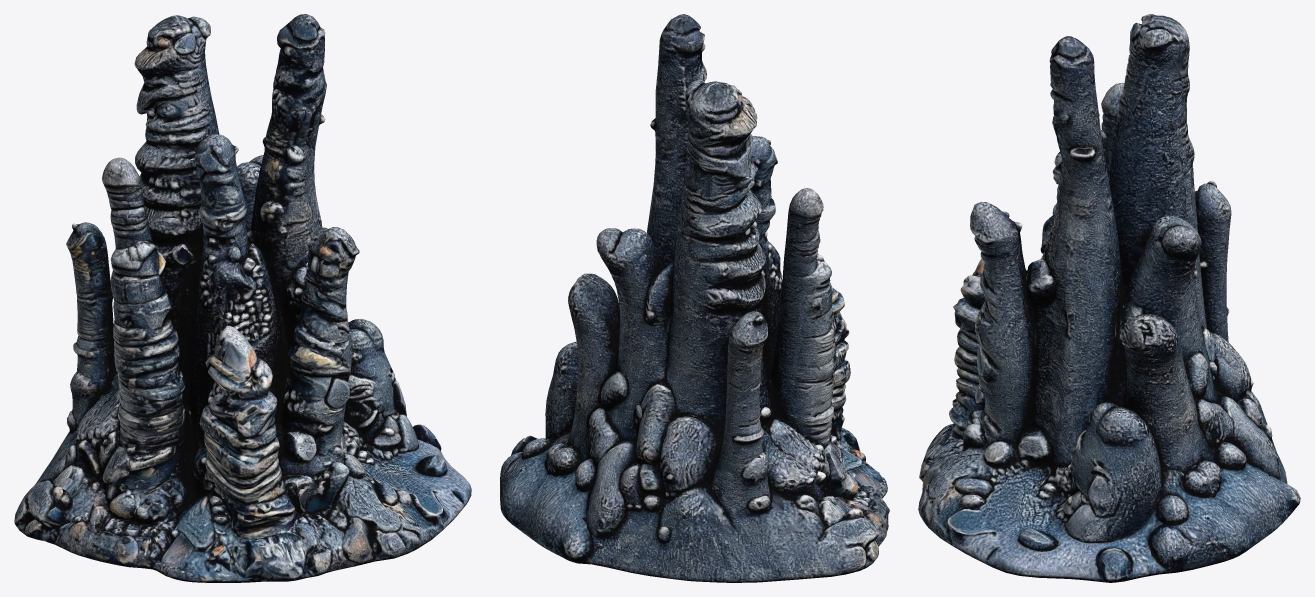
The model's file is vent.glb.
3 renders of one model, left to right at view 1: azimuth 30°, elevation 25°; view 2: azimuth 150°, elevation 25°; view 3: azimuth 270°, elevation 25°, orthographic. The views are drawn at different scales.
Parts seen in each view (by area): view 1: vent; view 2: vent; view 3: vent.
Part boxes in pixels (x1,y1,x2,y2): vent: [14, 14, 471, 582]; vent: [500, 14, 889, 582]; vent: [918, 14, 1300, 582].
Size of the model in its own units: 0.8459 by 1 by 0.7311.
Materials: 1 (1 with a texture image).
